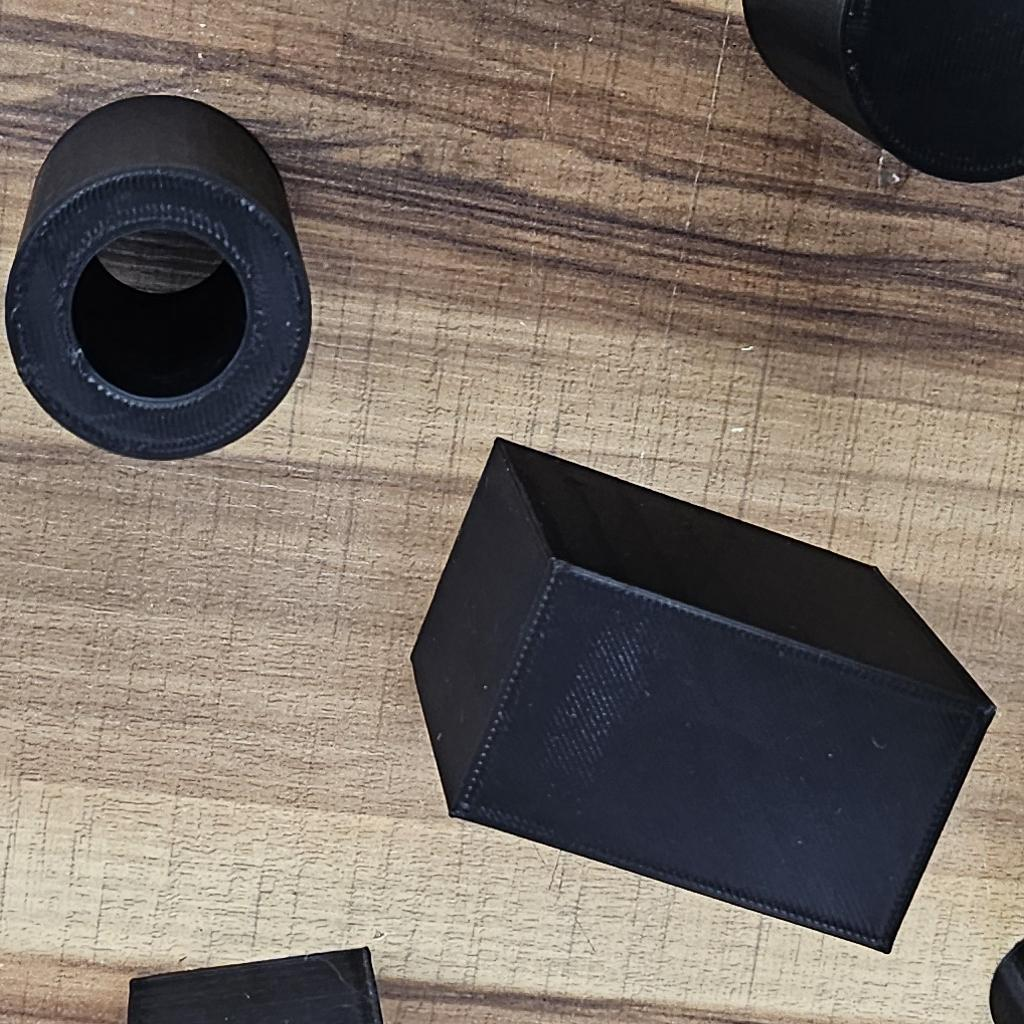circle: (732, 0, 1024, 217)
ring: (0, 83, 349, 476)
square: (55, 889, 428, 1024)
